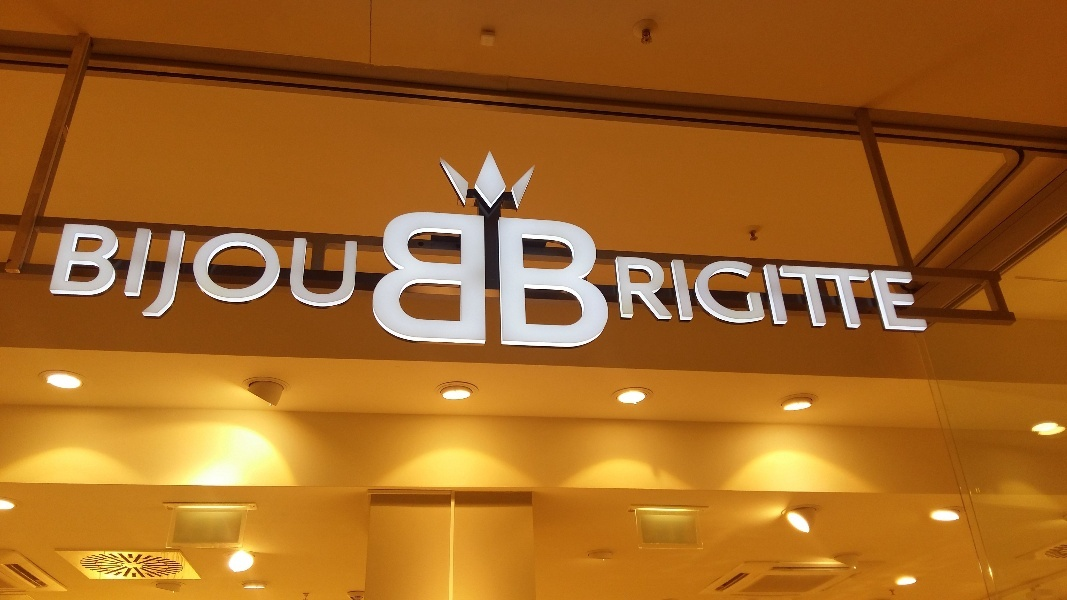text: (385, 211, 400, 353), (401, 211, 416, 353), (417, 211, 432, 353), (433, 211, 448, 353), (449, 211, 464, 353), (465, 211, 480, 353), (481, 211, 496, 353), (497, 211, 512, 353), (513, 211, 528, 353), (529, 211, 544, 353), (545, 211, 560, 353), (561, 211, 576, 353), (577, 211, 592, 353), (593, 211, 608, 353), (65, 222, 80, 336), (81, 222, 96, 336), (97, 222, 112, 336), (113, 222, 128, 336), (129, 222, 144, 336), (145, 222, 160, 336), (161, 222, 176, 336), (177, 222, 192, 336), (193, 222, 208, 336), (209, 222, 224, 336), (225, 222, 240, 336), (241, 222, 256, 336), (257, 222, 272, 336), (273, 222, 288, 336), (289, 222, 304, 336), (305, 222, 320, 336), (321, 222, 336, 336), (337, 222, 352, 336), (625, 257, 640, 333), (641, 257, 656, 333), (657, 257, 672, 333), (673, 257, 688, 333), (689, 257, 704, 333), (705, 257, 720, 333), (721, 257, 736, 333), (737, 257, 752, 333), (753, 257, 768, 333), (769, 257, 784, 333), (785, 257, 800, 333), (801, 257, 816, 333), (817, 257, 832, 333), (833, 257, 848, 333), (849, 257, 864, 333), (865, 257, 880, 333), (881, 257, 896, 333), (897, 257, 912, 333), (913, 257, 928, 333), (609, 211, 615, 353), (353, 222, 360, 336), (615, 257, 624, 333), (929, 257, 932, 333)
